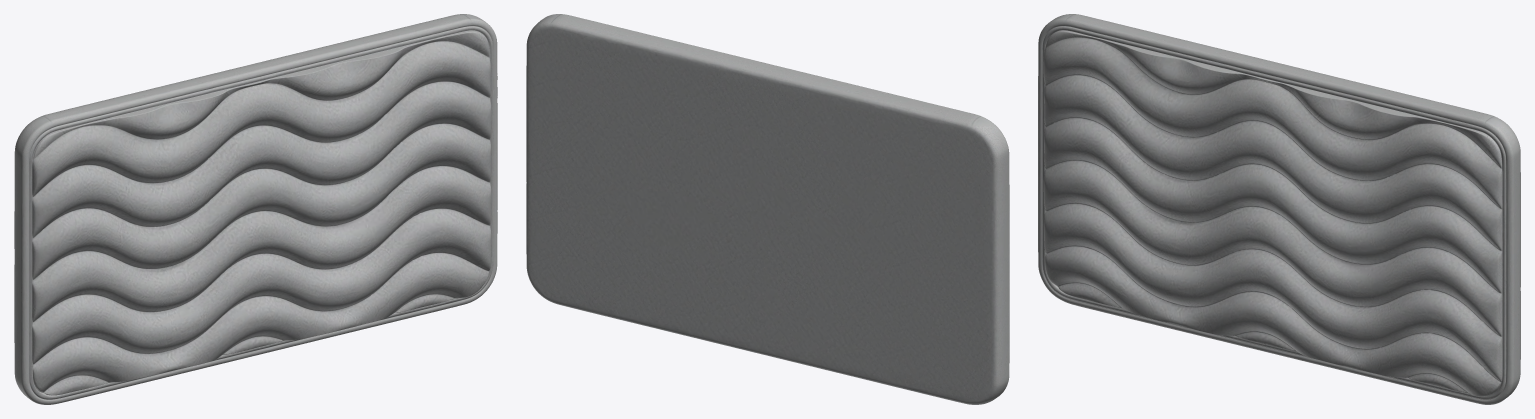
File: weava-home-memory-foam-bath-mat-60cm-x-40cm-stone-grey-recta.glb
3 renders of one model, left to right at view 1: azimuth 30°, elevation 25°; view 2: azimuth 150°, elevation 25°; view 3: azimuth 330°, elevation 25°, orthographic.
Size of the model in its own units: 1.9 by 1.09 by 0.1459.
Materials: 1 (1 with a texture image).
